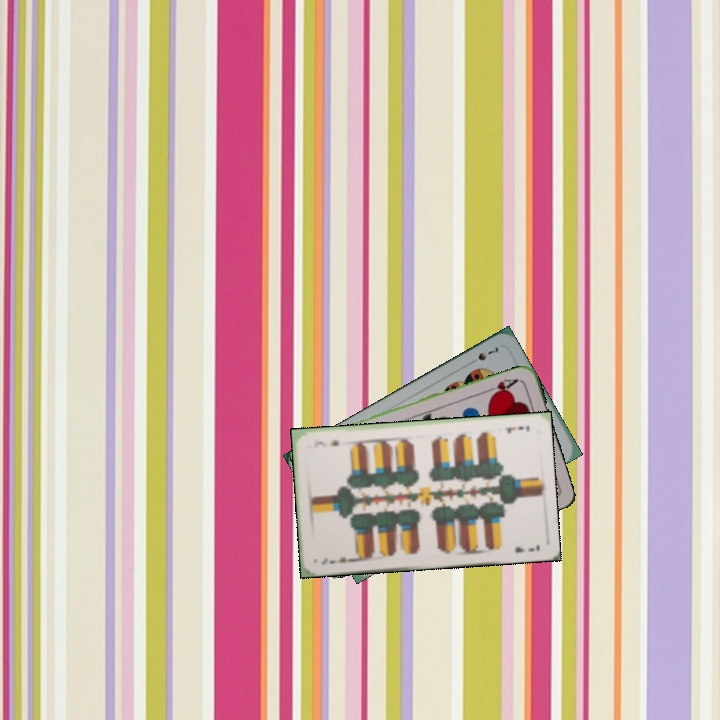E7: (317, 552, 355, 567), (502, 422, 532, 436)
HA: (483, 374, 522, 399)
S7: (465, 342, 503, 367)
